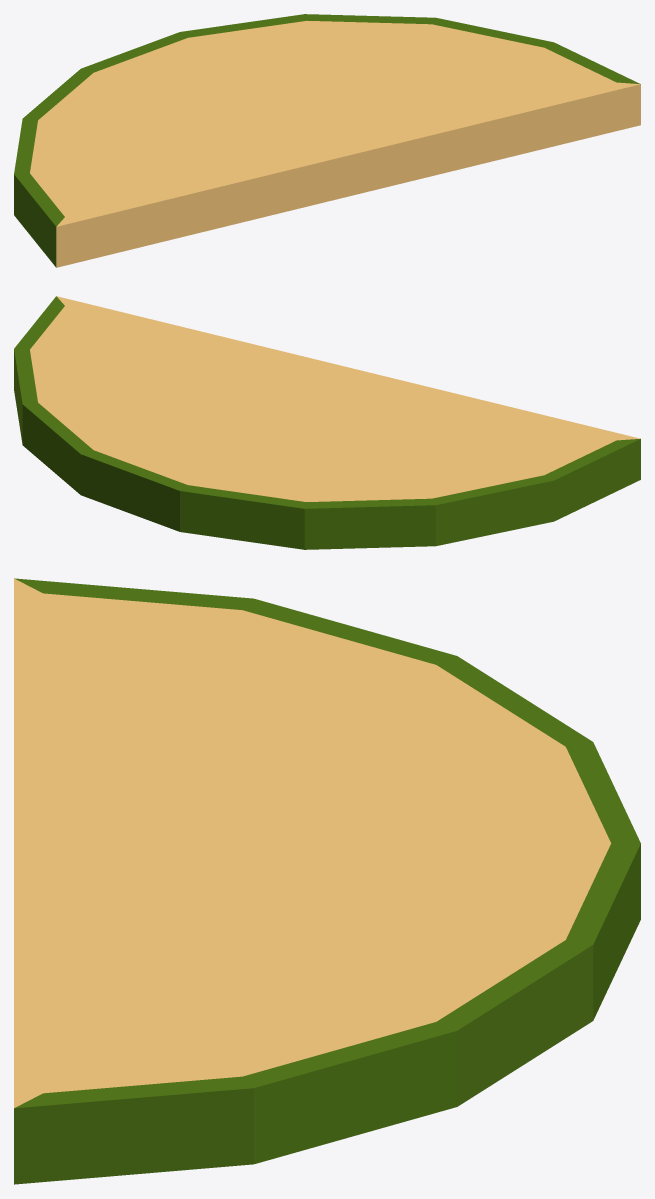
File: pumpkin.fbx
3 renders of one model, top to bottom at view 1: azimuth 30°, elevation 25°; view 2: azimuth 150°, elevation 25°; view 3: azimuth 270°, elevation 25°, orthographic. The views are drawn at different scales.
Visible parts, largest first — view 1: pumpkin; view 2: pumpkin; view 3: pumpkin.
Part boxes in pixels (x1=…): pumpkin: x1=14, y1=14, x2=640, y2=267; pumpkin: x1=14, y1=296, x2=640, y2=549; pumpkin: x1=14, y1=578, x2=640, y2=1184.
Size of the model in its own units: 200 by 13.41 by 100.
